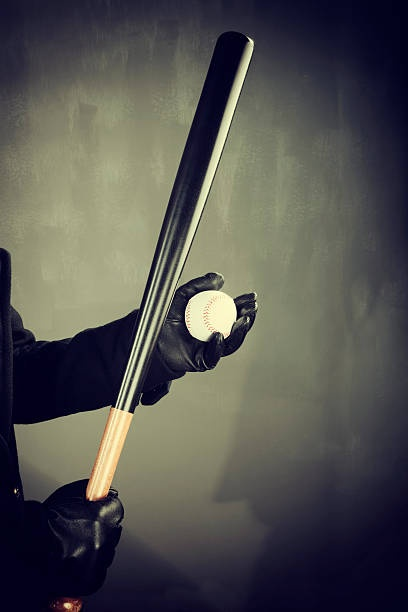bita: (80, 32, 260, 522)
